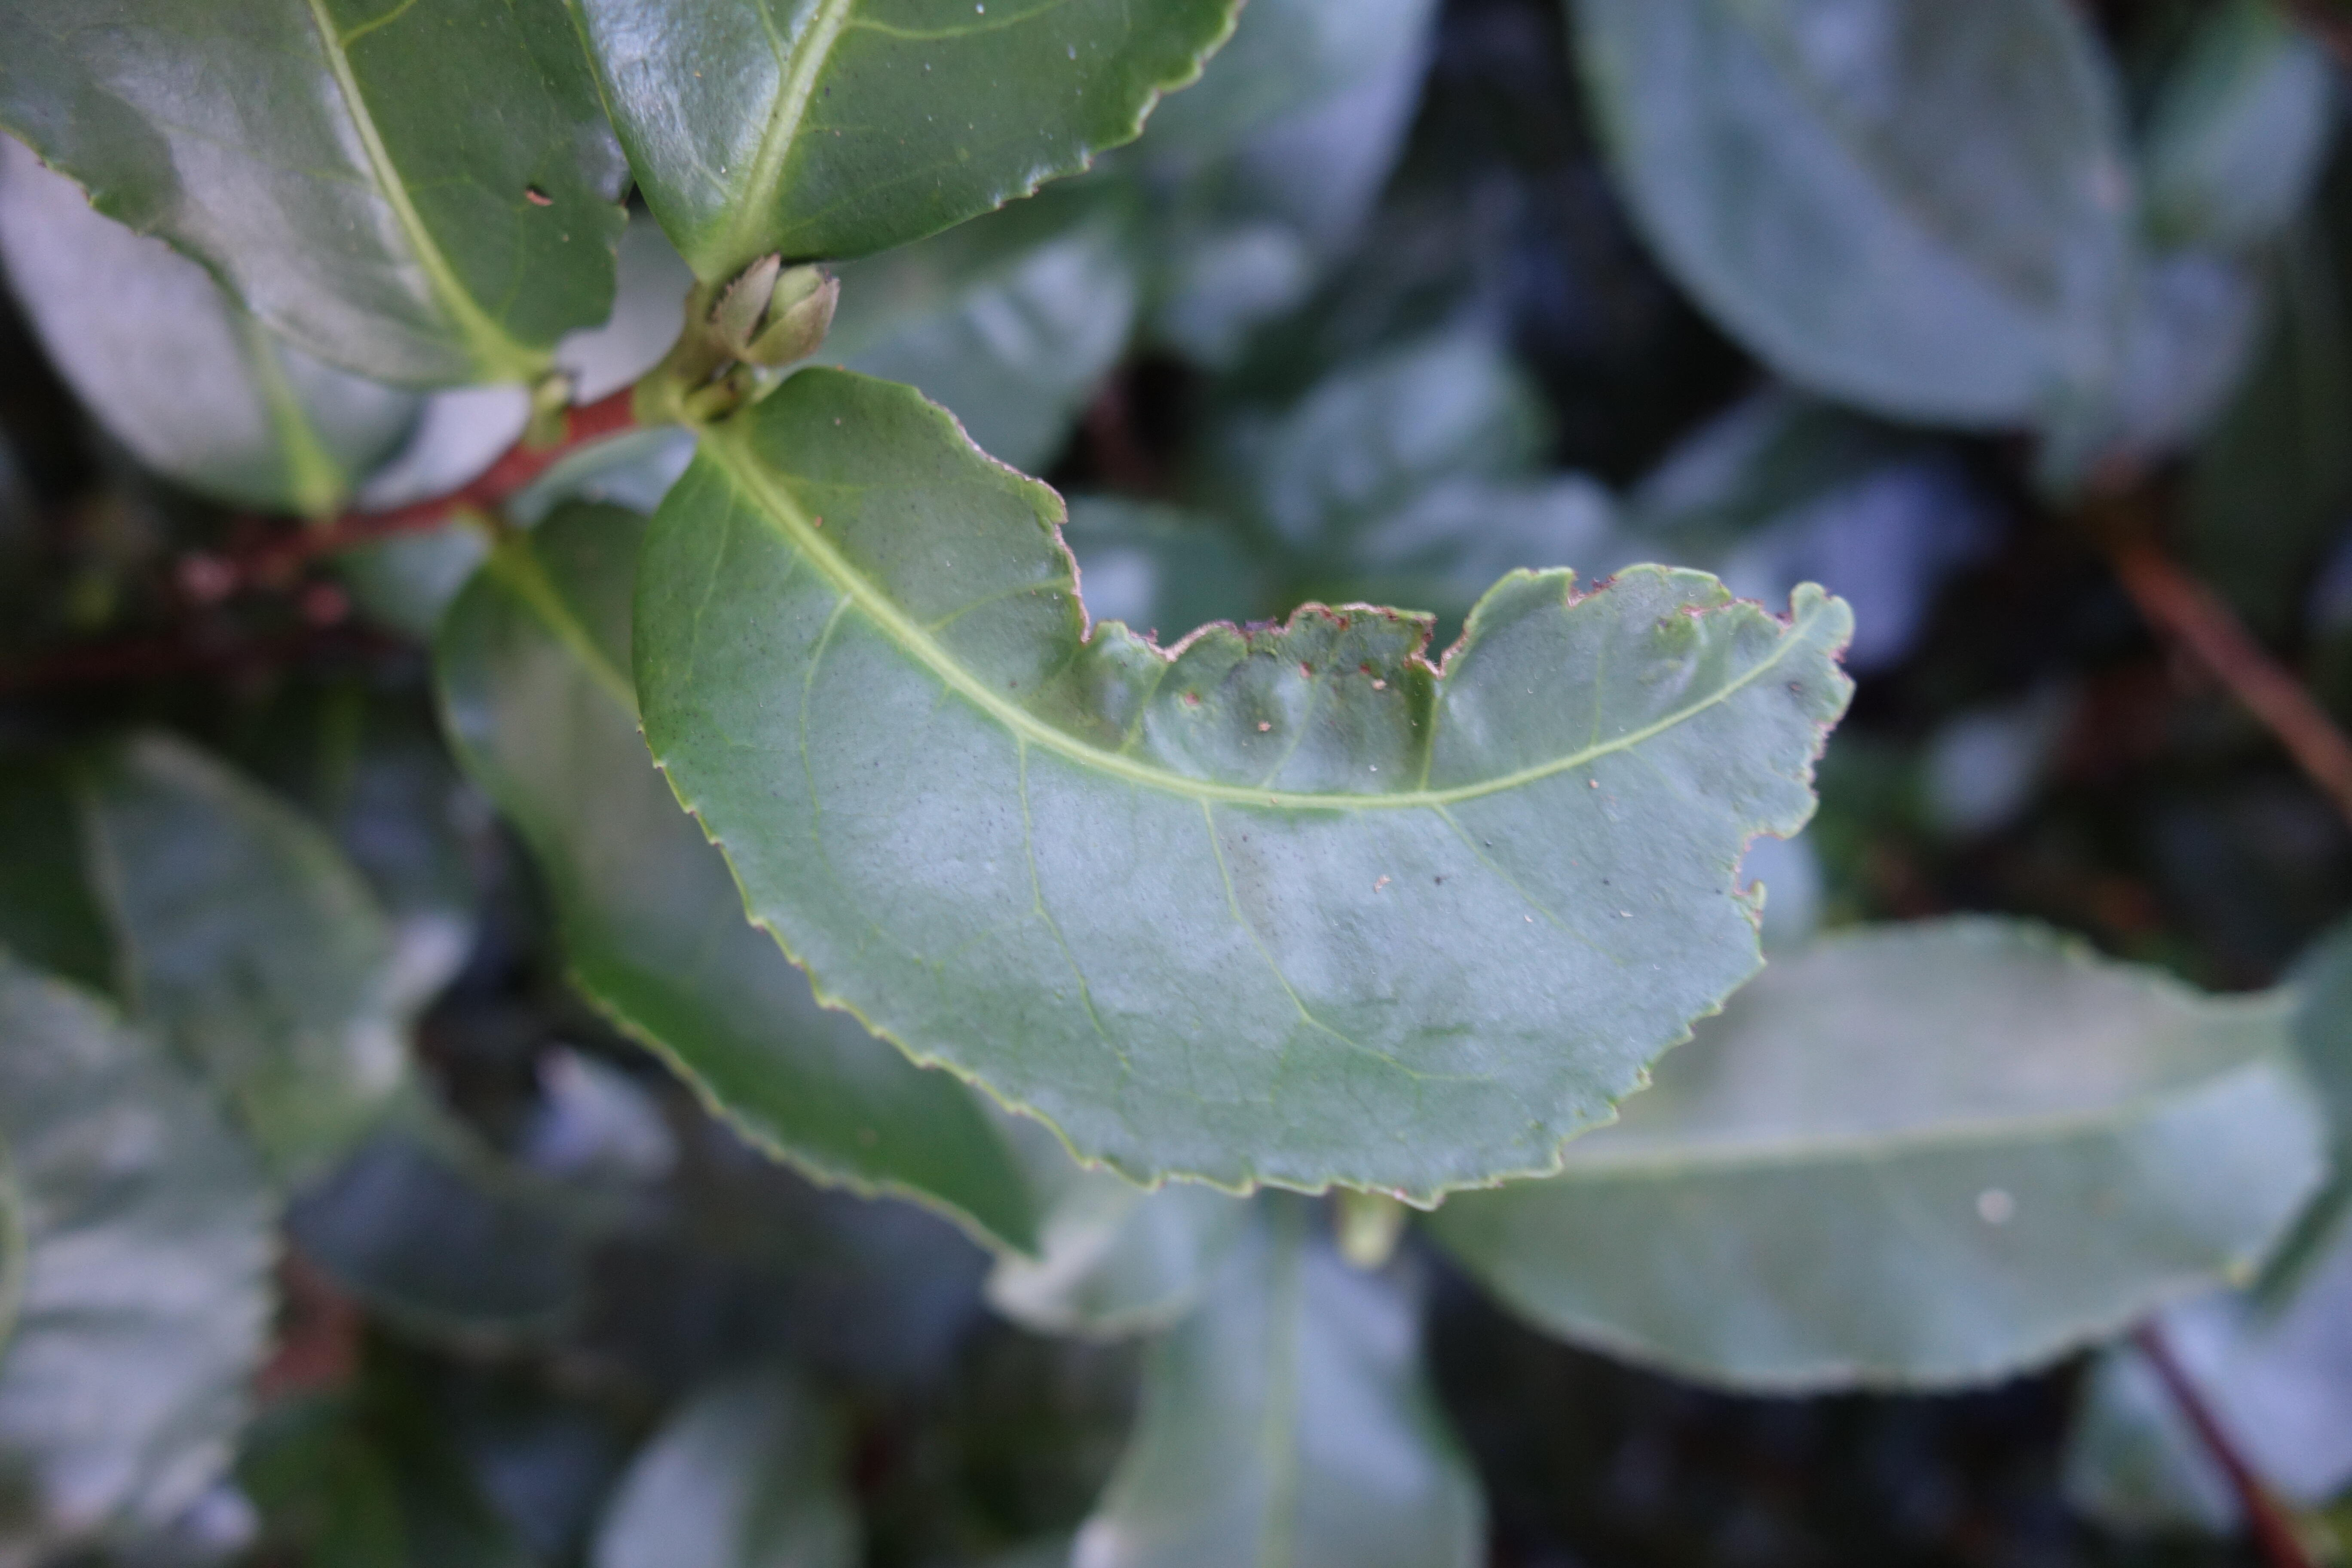chihuo_high: (628, 367, 1860, 1218)
